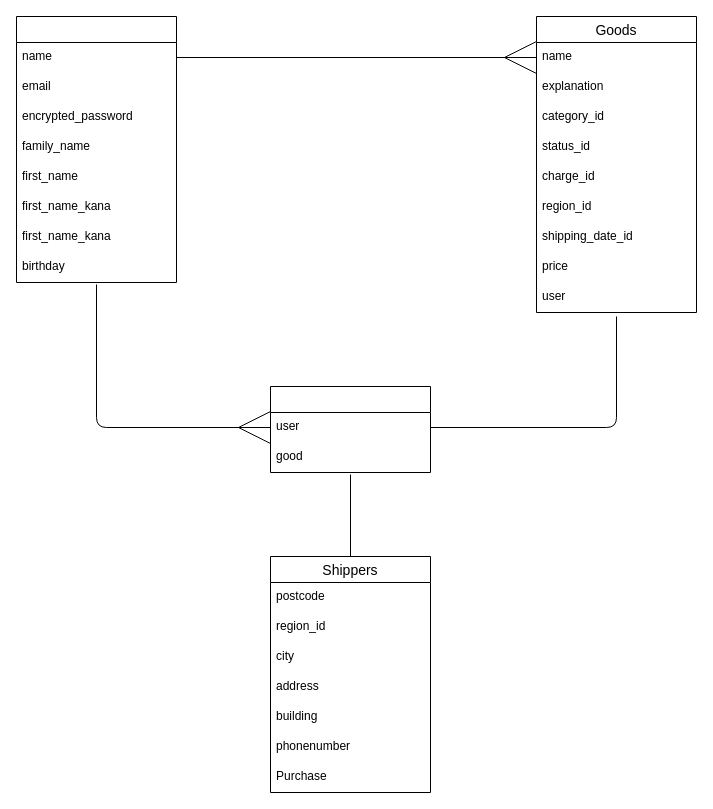
The diagram is 713 pixels wide and 809 high, and some of its shapes have lost their labels. Here are the shapes that lost their labels. From the top down, the box of each, then its label:
(16, 16, 176, 282): Users
(270, 386, 430, 472): Purchases
